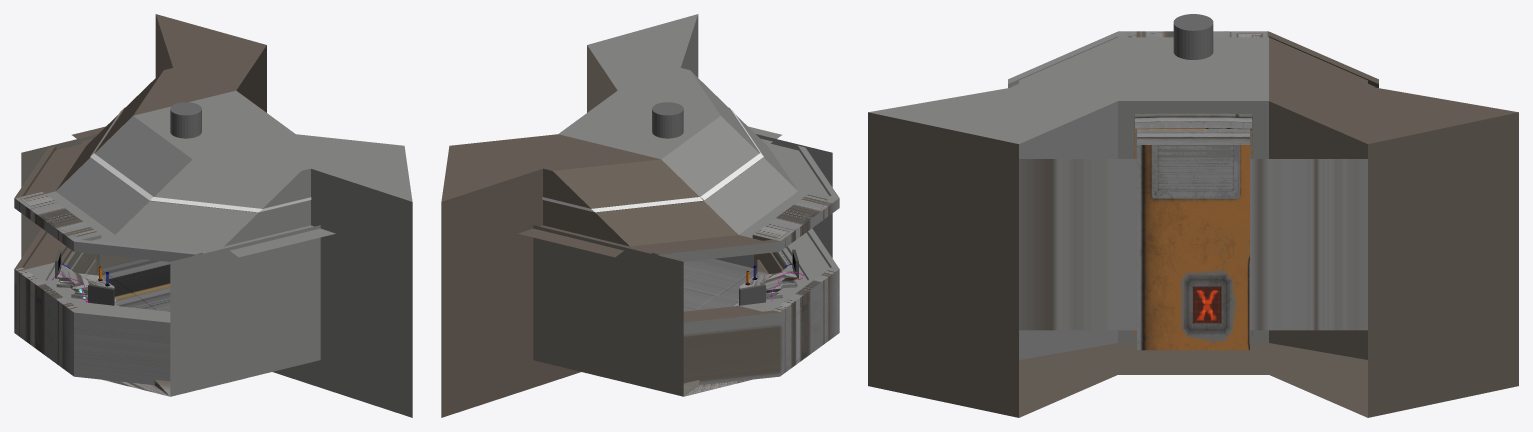
File: Ship Version 2.fbx
The picture shows the model from 3 angles, left to right: view 1: azimuth 30°, elevation 25°; view 2: azimuth 150°, elevation 25°; view 3: azimuth 270°, elevation 25°; orthographic projection. The views are drawn at different scales.
Parts seen in each view (by area): view 1: Cube, Floor, Light, Cylinder, Cube.002, Cube.004; view 2: Cube, Floor, Light, Cylinder, Cube.002, Cube.006; view 3: Cube, Cube.001, Cylinder.
Part boxes in pixels (x1,y1,x2,y2): Cube: (14, 14, 412, 417); Floor: (96, 259, 170, 311); Light: (90, 108, 311, 212); Cylinder: (170, 102, 201, 138); Cube.002: (56, 271, 116, 303); Cube.004: (88, 284, 114, 305); Cube: (441, 14, 839, 417); Floor: (683, 259, 758, 311); Light: (542, 108, 763, 212); Cylinder: (652, 102, 683, 138); Cube.002: (737, 271, 797, 303); Cube.006: (739, 284, 765, 305); Cube: (868, 31, 1518, 417); Cube.001: (1134, 113, 1252, 350); Cylinder: (1173, 14, 1213, 59).
Size of the model in its own units: 1130 by 885 by 1724.
26 materials, 3 textured.
